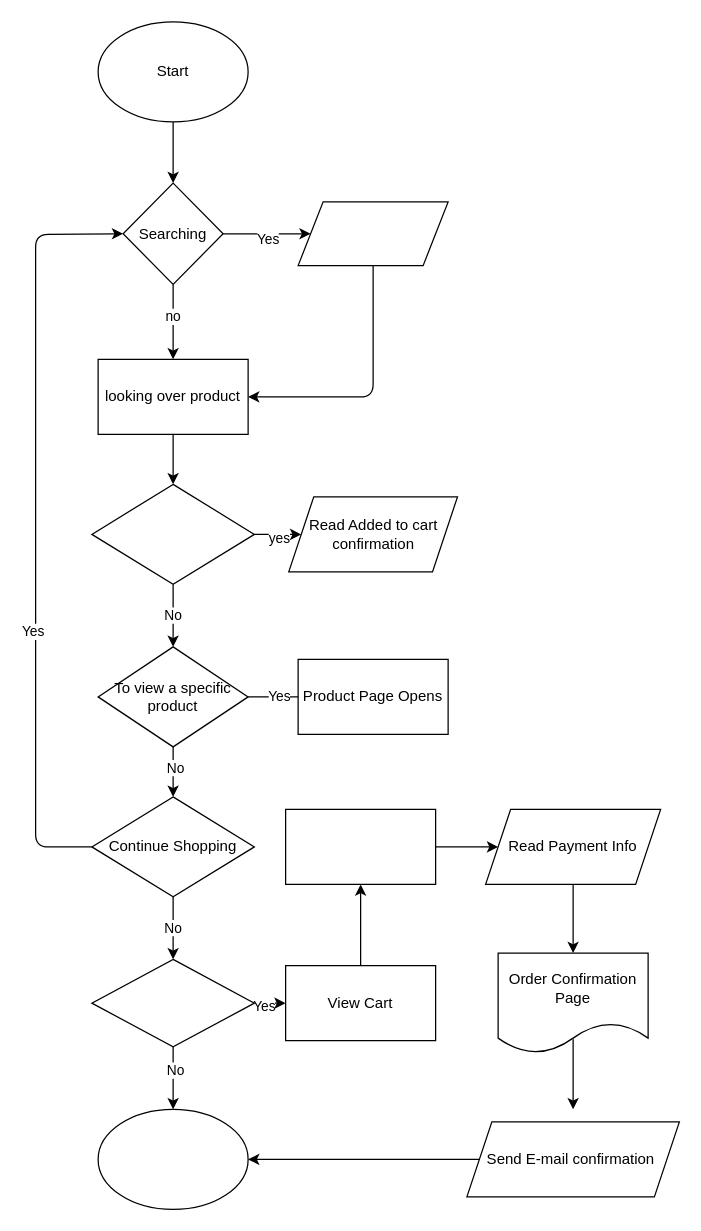
Some shapes in this 701 by 1231 pixel diagram are drawn without their labels. The box of each missing label's shape, as (x1, y1, x2, y2) in pixels:
Check out: (91, 958, 254, 1047)
End: (97, 1108, 248, 1209)
Product added to cart: (91, 483, 254, 584)
Read User input: (297, 201, 448, 266)
View Payment: (284, 808, 436, 884)
